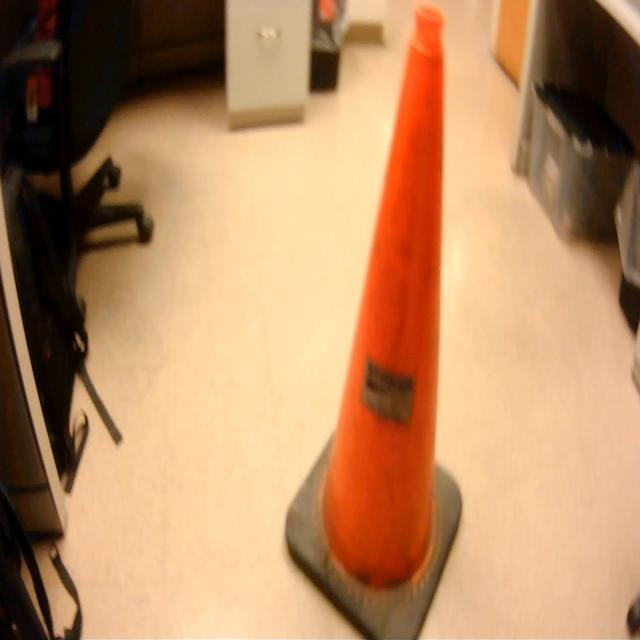traffic cone: (281, 1, 469, 640)
